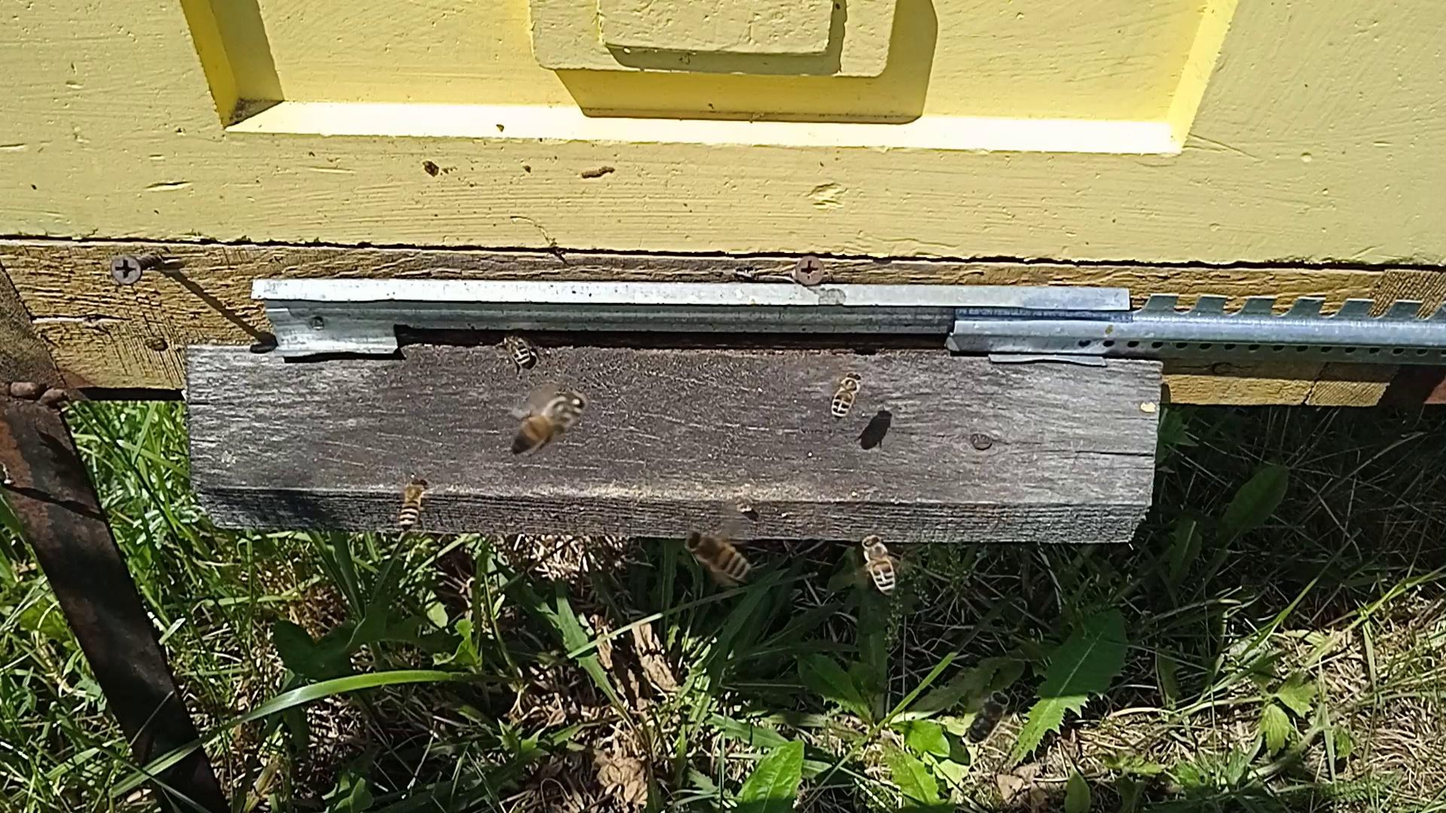worker-bee: (511, 391, 587, 456), (682, 529, 755, 583), (965, 690, 1011, 746), (859, 533, 898, 596), (830, 370, 864, 419), (398, 477, 430, 528), (499, 332, 541, 369)
